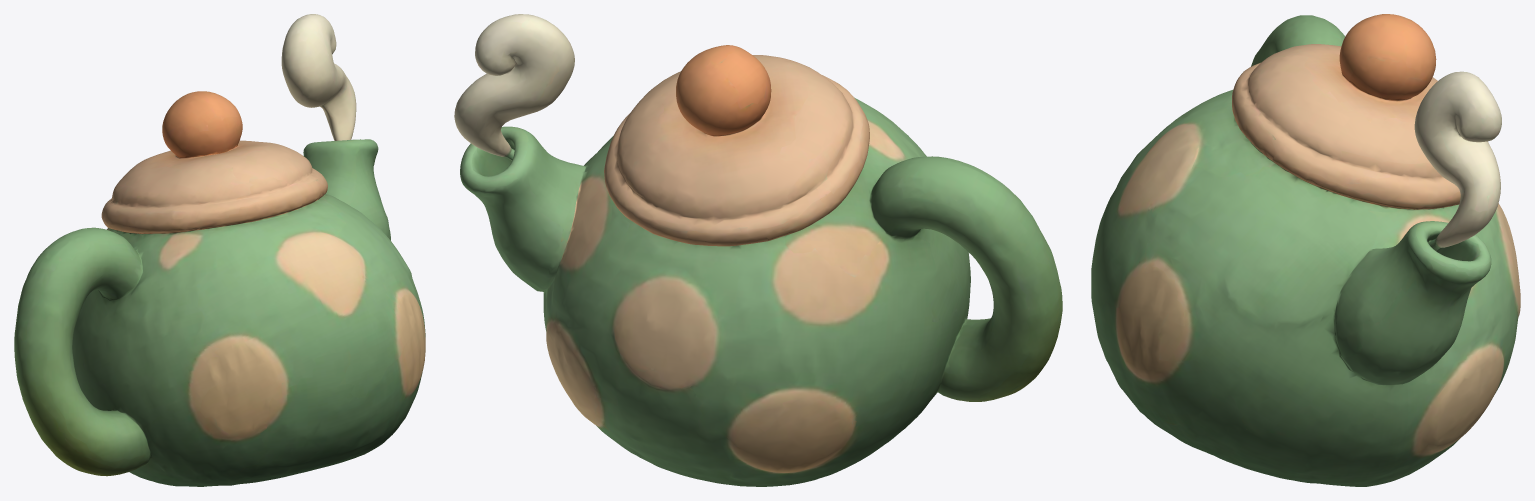
File: item_teapot.glb
3 views of the same model, side by side, from view 1: azimuth 30°, elevation 25°; view 2: azimuth 150°, elevation 25°; view 3: azimuth 270°, elevation 25° (orthographic). The views are drawn at different scales.
Visible parts, largest first — view 1: geometry_0; view 2: geometry_0; view 3: geometry_0.
Part boxes in pixels (x1,y1,x2,y2): geometry_0: (14,14,425,486); geometry_0: (454,14,1062,486); geometry_0: (1091,14,1520,486).
Bounding box in the file's own units: 0.9206 × 0.7827 × 0.6708.
1 material, 1 textured.
